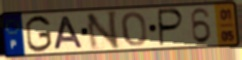6: (190, 7, 214, 46)
A: (52, 15, 85, 51)
G: (24, 14, 54, 54)
N: (84, 9, 121, 52)
O: (120, 11, 148, 48)
P: (158, 8, 186, 49)
